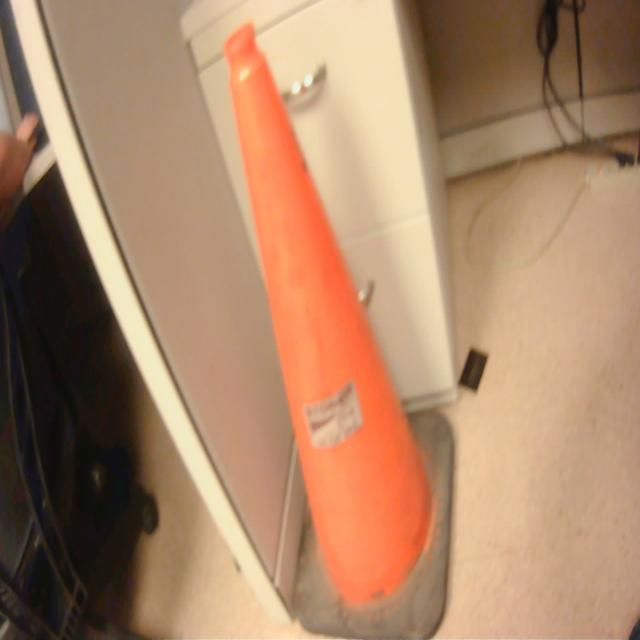traffic cone: (221, 16, 462, 640)
